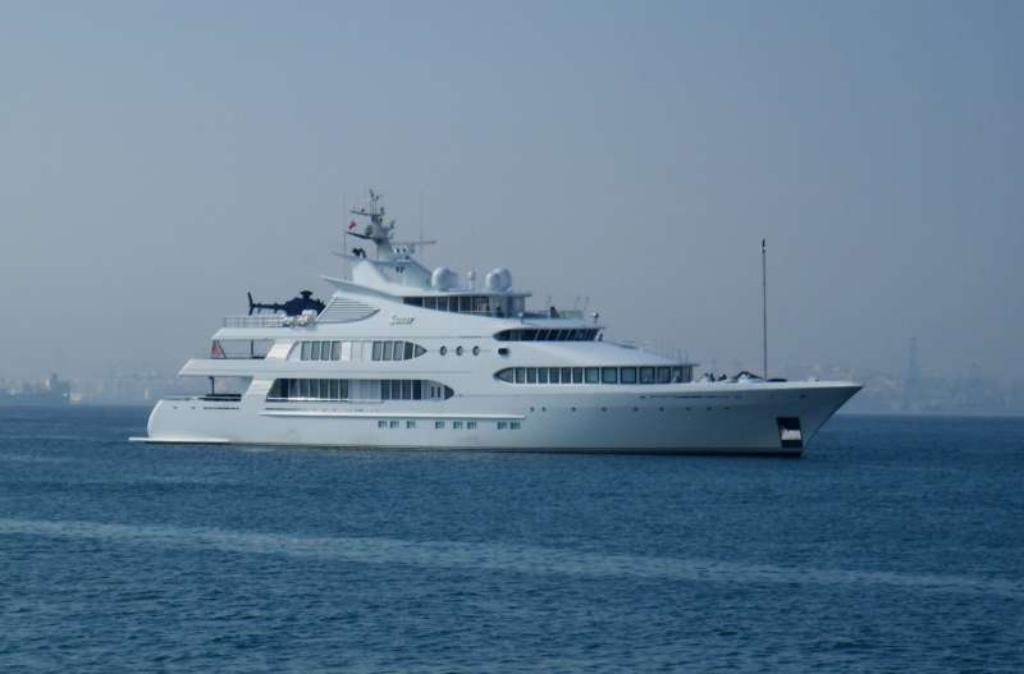PassengerShip: (136, 185, 868, 461)
